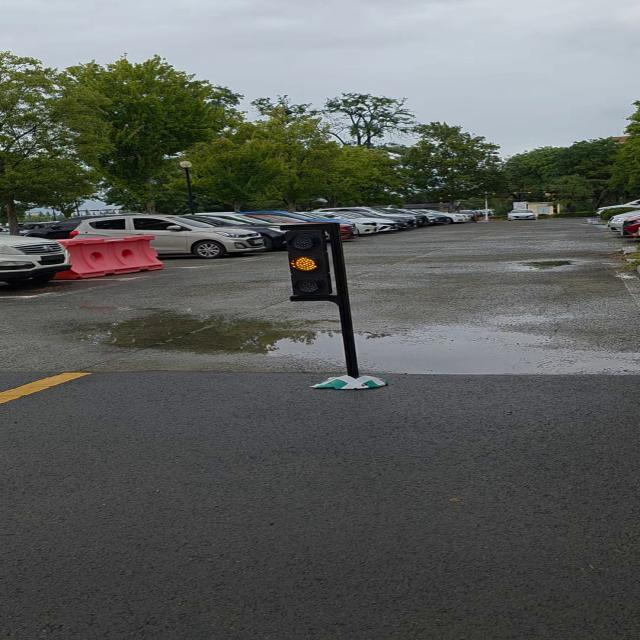yellow: (280, 228, 333, 302)
